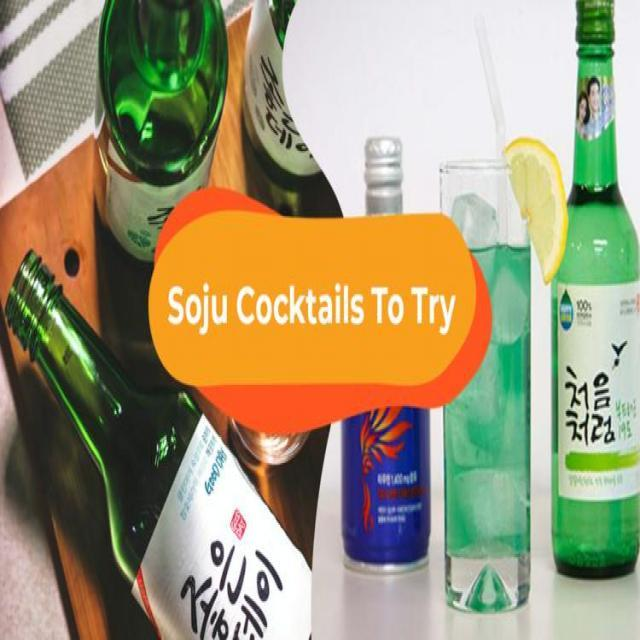soju-bottle: (3, 250, 315, 640), (550, 1, 638, 576), (97, 2, 229, 276)
